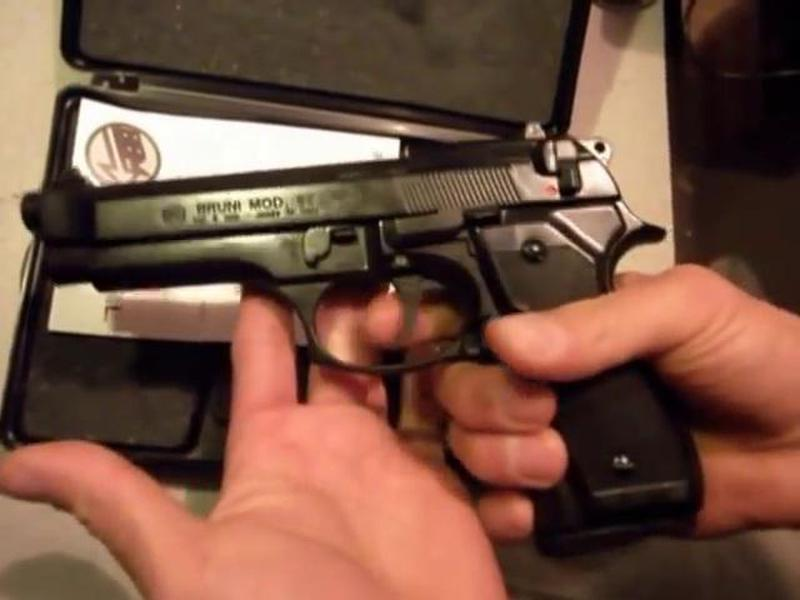Pistola: (36, 130, 700, 528)
